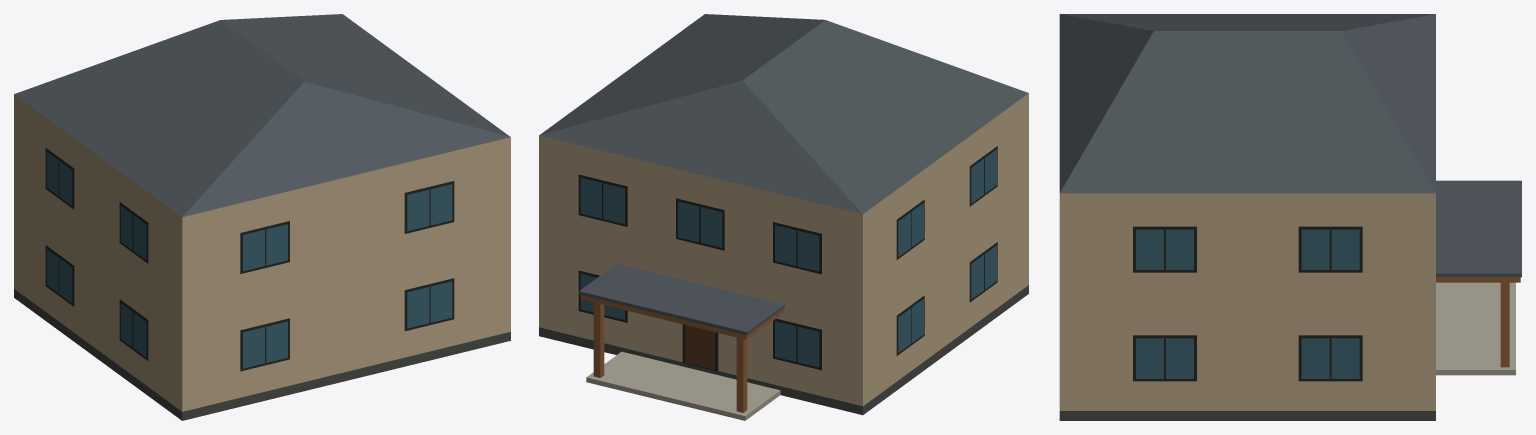
The picture shows the model from 3 angles, left to right: view 1: azimuth 30°, elevation 25°; view 2: azimuth 150°, elevation 25°; view 3: azimuth 270°, elevation 25°; orthographic projection. The views are drawn at different scales.
Bounding box in the file's own units: 10.74 × 8.28 × 11.62.
